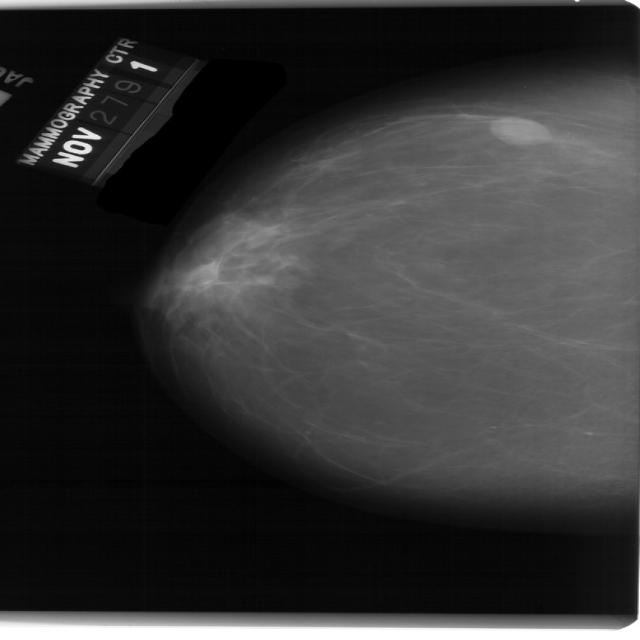tumour: (487, 114, 549, 146)
